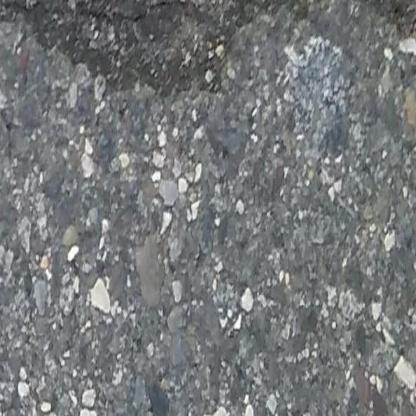Cracks: (0, 0, 416, 105)
